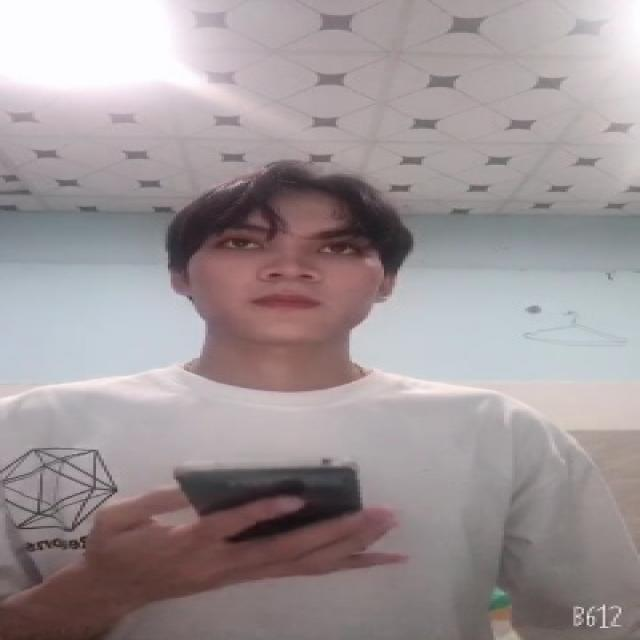Phone: (168, 456, 363, 543)
